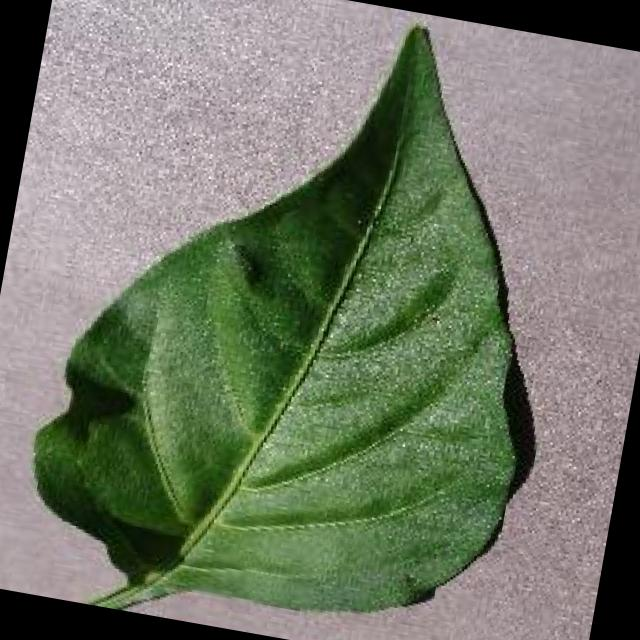Chilli_Healthy: (4, 0, 603, 640)
